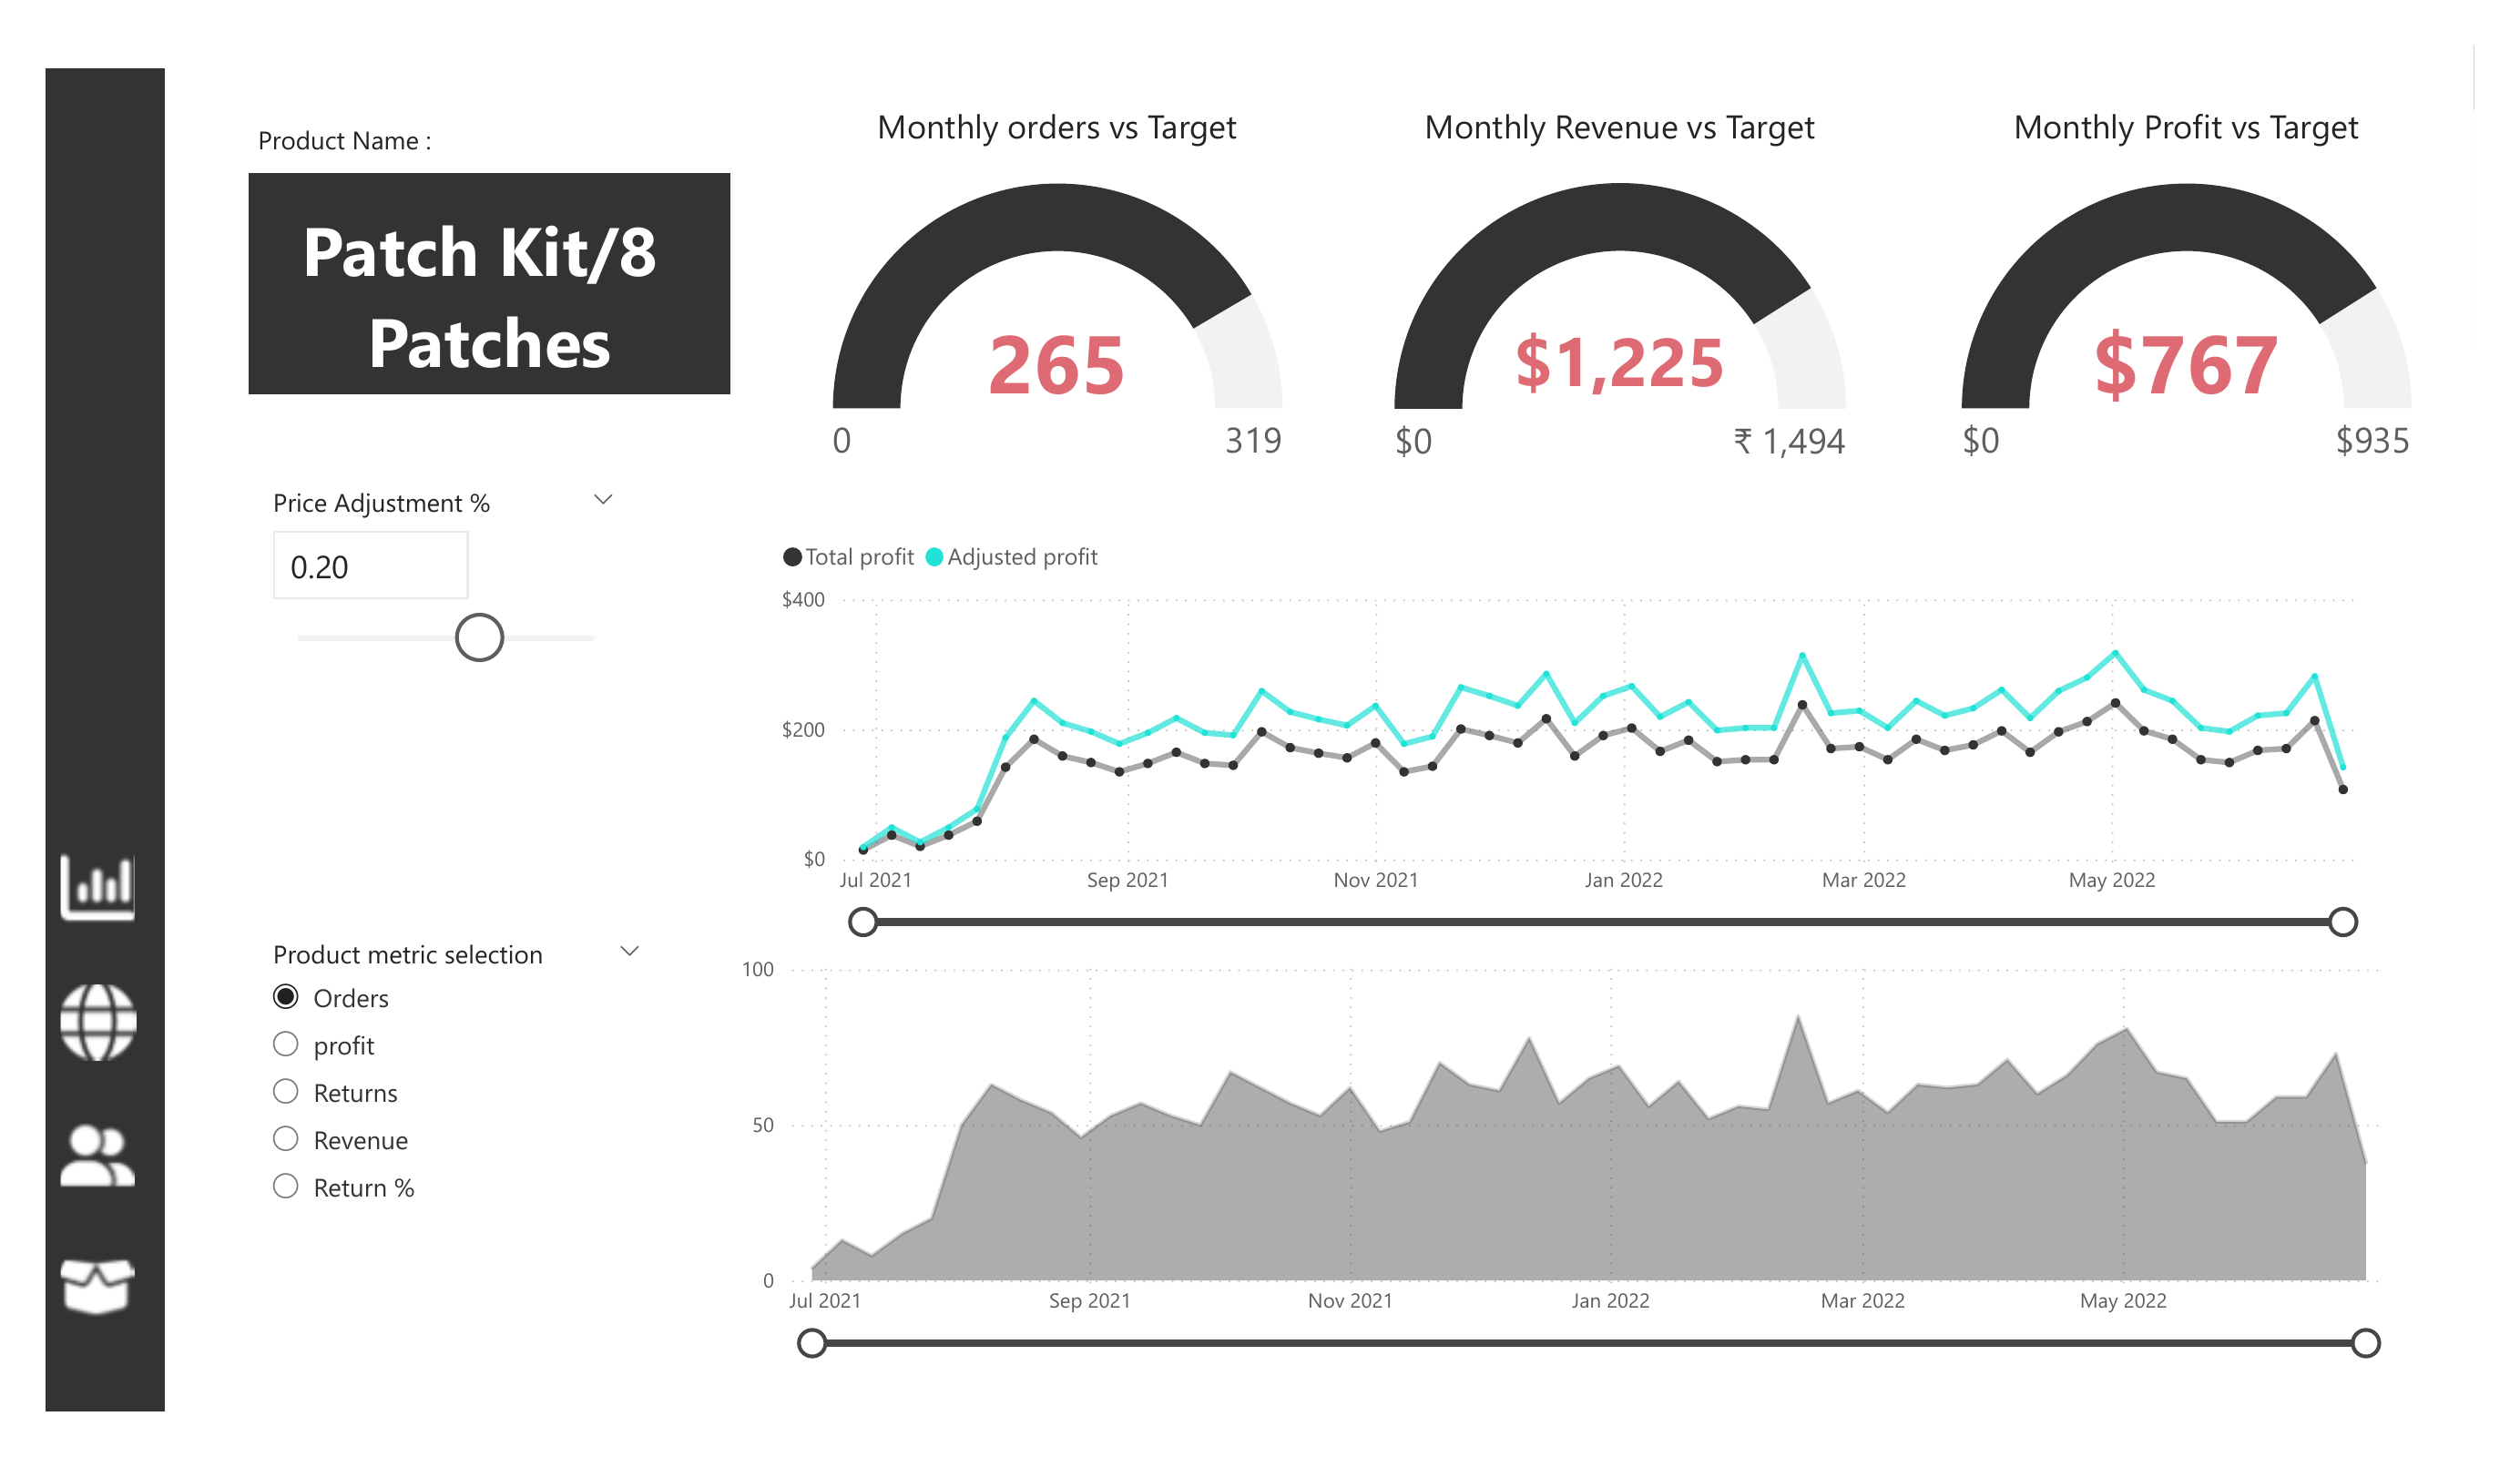

This screenshot's page, from the dashboard's own definition file:
{"tool":"powerbi","page":{"name":"Product Details","canvas":[1280,720],"ordinal":3},"visuals":[{"type":"shape","box":[0,11.7,63.3,708.3],"z":0},{"type":"actionButton","box":[3.9,421.1,118.1,47.3],"z":1000,"group":"g1"},{"type":"gauge","title":"Monthly orders vs Target","fields":{"Y":["Measure Table.Total Orders"],"MaxValue":["Measure Table.Order target"]},"box":[409.5,29.9,247.3,215.8],"z":1000},{"type":"gauge","title":"Monthly Revenue vs Target","fields":{"Y":["Measure Table.Total Revenue"],"MaxValue":["Measure Table.Revenue target"]},"box":[705.6,29.9,248.9,215.8],"z":2000},{"type":"actionButton","box":[3.9,491.5,118.1,47.3],"z":2000,"group":"g1"},{"type":"gauge","title":"Monthly Profit vs Target","fields":{"Y":["Measure Table.Total profit"],"MaxValue":["Measure Table.Profit target"]},"box":[1004.9,29.9,247.3,215.8],"z":3000},{"type":"actionButton","box":[3.9,561.8,118.1,47.3],"z":3000,"group":"g1"},{"type":"actionButton","box":[3.9,632.2,118.1,47.3],"z":4000,"group":"g1"},{"type":"lineChart","title":"Profit Trending","fields":{"Category":["Calendar Lookup.Year","Calendar Lookup.Start of Month","Calendar Lookup.Start of Week","Calendar Lookup.Date"],"Y":["Measure Table.Total profit","Measure Table.Adjusted profit"]},"box":[382.7,250.4,856.8,222.1],"z":4000},{"type":"areaChart","title":"Returns trending","fields":{"Y":["Measure Table.Total Orders"],"Category":["Calendar Lookup.Year","Calendar Lookup.Start of Month","Calendar Lookup.Start of Week","Calendar Lookup.Date"]},"box":[360.7,472.5,891.5,222.1],"z":5000},{"type":"card","fields":{"Values":["Min(Product Lookup.ProductName)"]},"box":[107.1,67.1,254.3,117.1],"z":6000},{"type":"textbox","box":[107.1,30,152.9,51.4],"z":7000},{"type":"group","id":"g1","title":"Navigation Buttons","box":[3.9,421.1,118.1,258.3],"z":8000},{"type":"slicer","fields":{"Values":["Price Adjustment %.Price Adjustment %"]},"box":[107.1,226.8,204.8,193.7],"z":9000},{"type":"slicer","fields":{"Values":["Product metric selection .Product metric selection "]},"box":[107.1,464.6,218.9,244.1],"z":10000}]}

Visuals, with their boxes on the page's 1280x720 design canvas (x1, y1, x2, y2). These are canvas units, not pixel positions in the 2520x1457 screenshot, which may show the page scaled, cropped or inside an application window:
shape: BBox(0, 12, 63, 720)
actionButton: BBox(4, 421, 122, 468)
"Monthly orders vs Target" gauge: BBox(410, 30, 657, 246)
"Monthly Revenue vs Target" gauge: BBox(706, 30, 954, 246)
actionButton: BBox(4, 492, 122, 539)
"Monthly Profit vs Target" gauge: BBox(1005, 30, 1252, 246)
actionButton: BBox(4, 562, 122, 609)
actionButton: BBox(4, 632, 122, 680)
"Profit Trending" lineChart: BBox(383, 250, 1240, 472)
"Returns trending" areaChart: BBox(361, 472, 1252, 695)
card - Min(Product Lookup.ProductName): BBox(107, 67, 361, 184)
textbox: BBox(107, 30, 260, 81)
"Navigation Buttons" group: BBox(4, 421, 122, 679)
slicer - Price Adjustment %.Price Adjustment %: BBox(107, 227, 312, 420)
slicer - Product metric selection .Product metric selection : BBox(107, 465, 326, 709)
